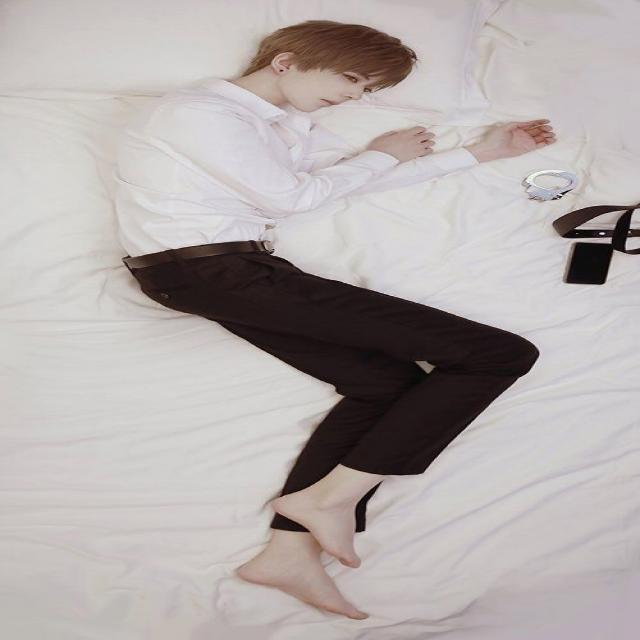lie: (159, 14, 514, 616)
